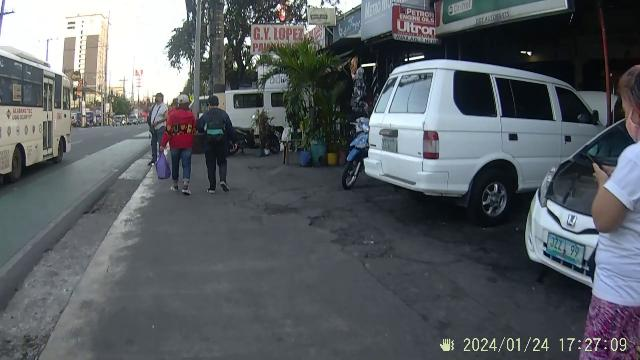car: (383, 57, 593, 216)
utility_post: (180, 0, 233, 106)
